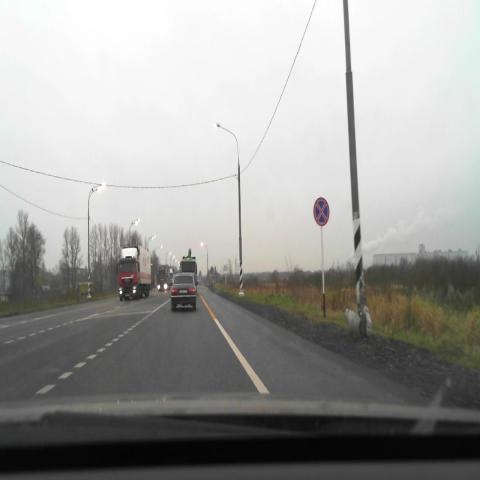3_27: (313, 197, 330, 226)
